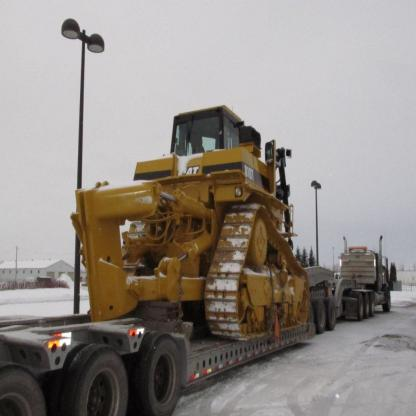bull_dozer/loader/grader: (63, 90, 330, 342)
